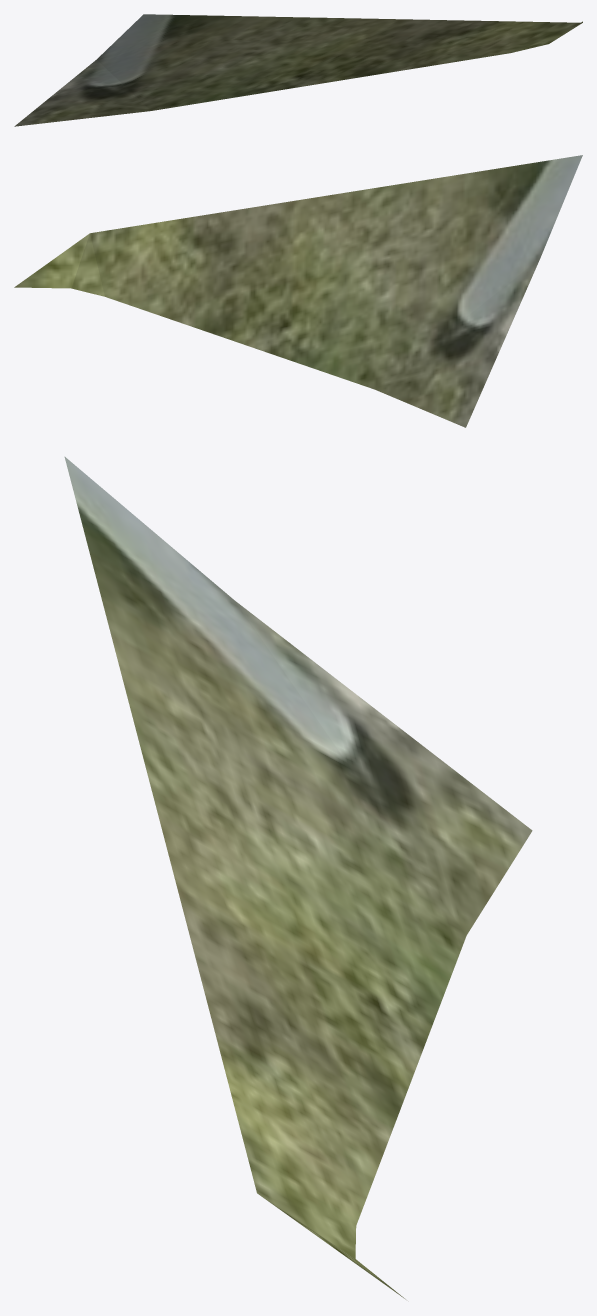
3 renders of one model, top to bottom at view 1: azimuth 30°, elevation 25°; view 2: azimuth 150°, elevation 25°; view 3: azimuth 270°, elevation 25°, orthographic. The views are drawn at different scales.
Size of the model in its own units: 3.73 by 1.38 by 1.57.
1 material, 1 textured.
